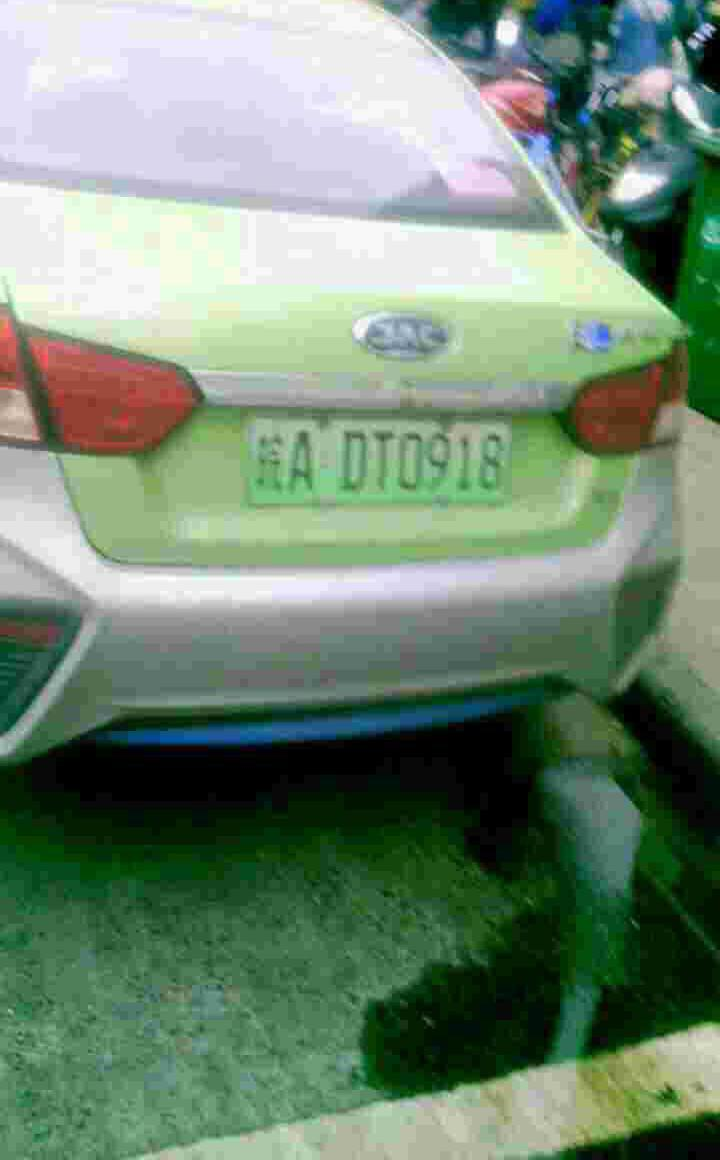car: (230, 402, 527, 513)
